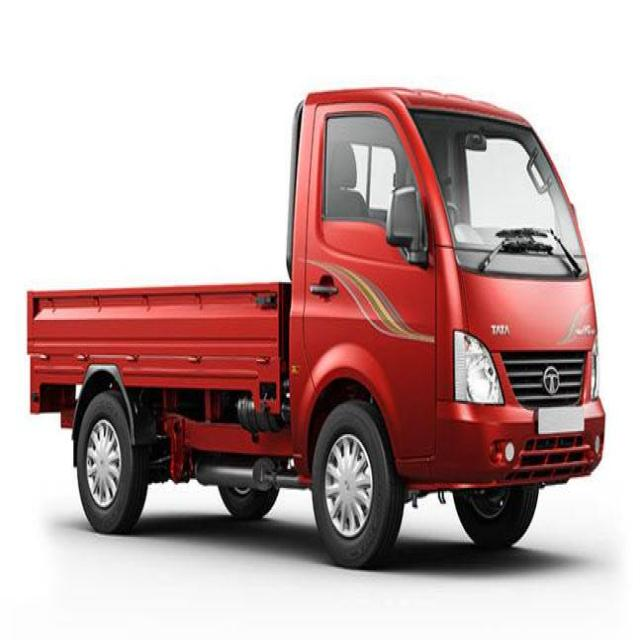truck: (28, 88, 605, 567)
